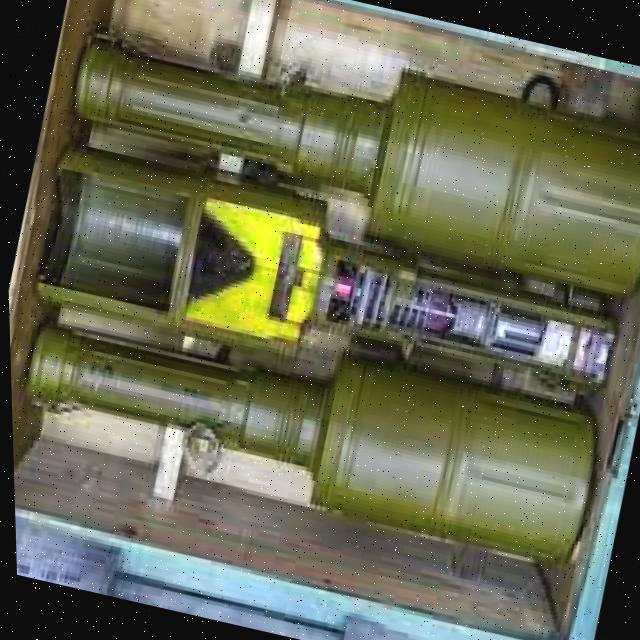grenade: (54, 0, 640, 313), (24, 134, 640, 423), (7, 283, 610, 569)
